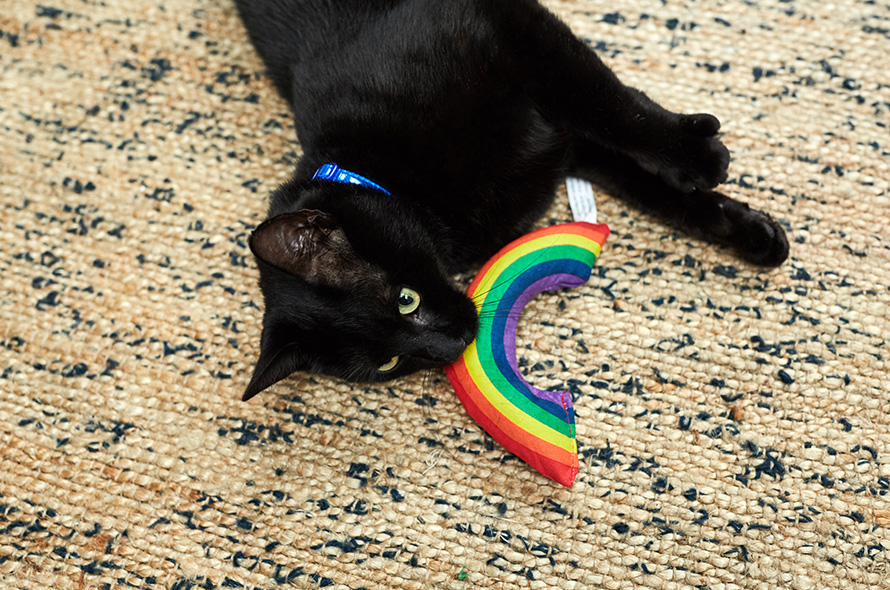Cat: (211, 4, 799, 481)
